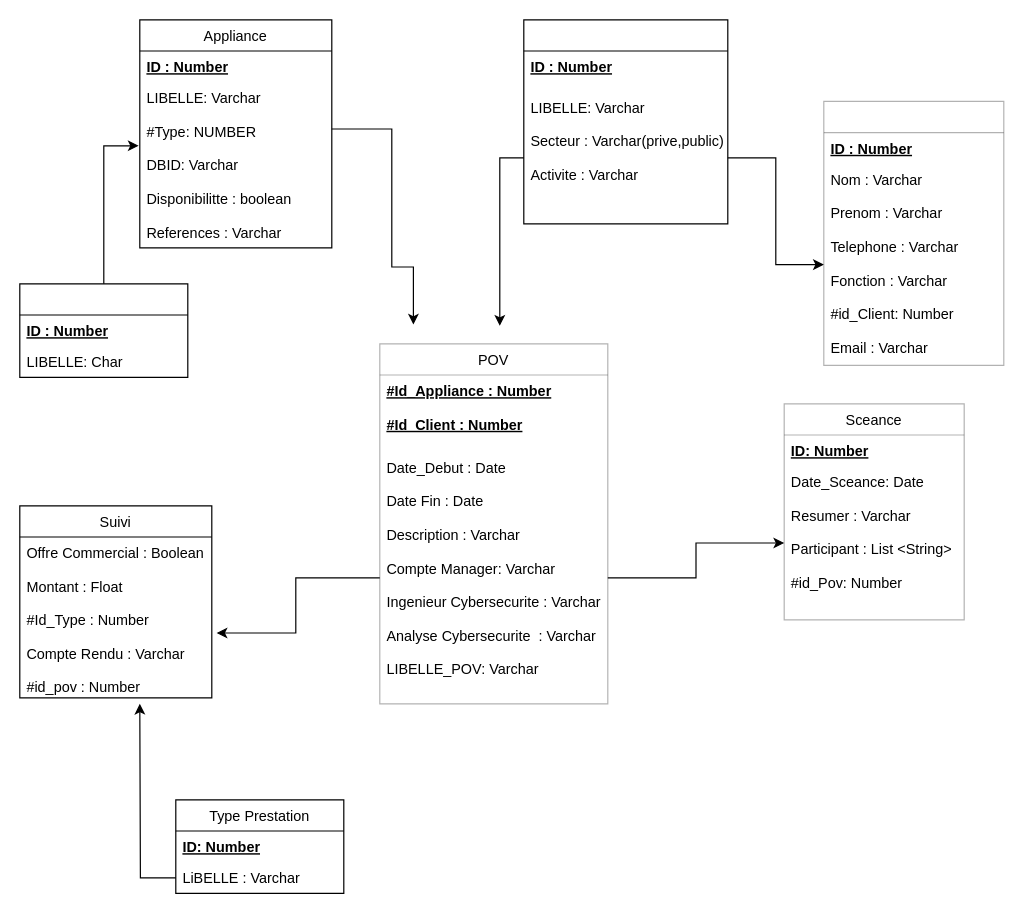
Image size: 1024x913. Some labels were removed from this diagram. The box of each missing label's shape, as (x1, y1, x2, y2) in pixels:
Client: (523, 19, 728, 224)
Contact: (823, 100, 1004, 365)
Type: (19, 283, 188, 377)
